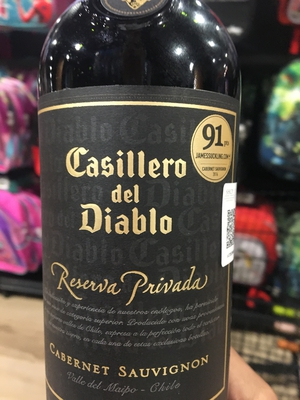casillero del diablo reserva privada cabernet sauvignon: (35, 18, 253, 400)
